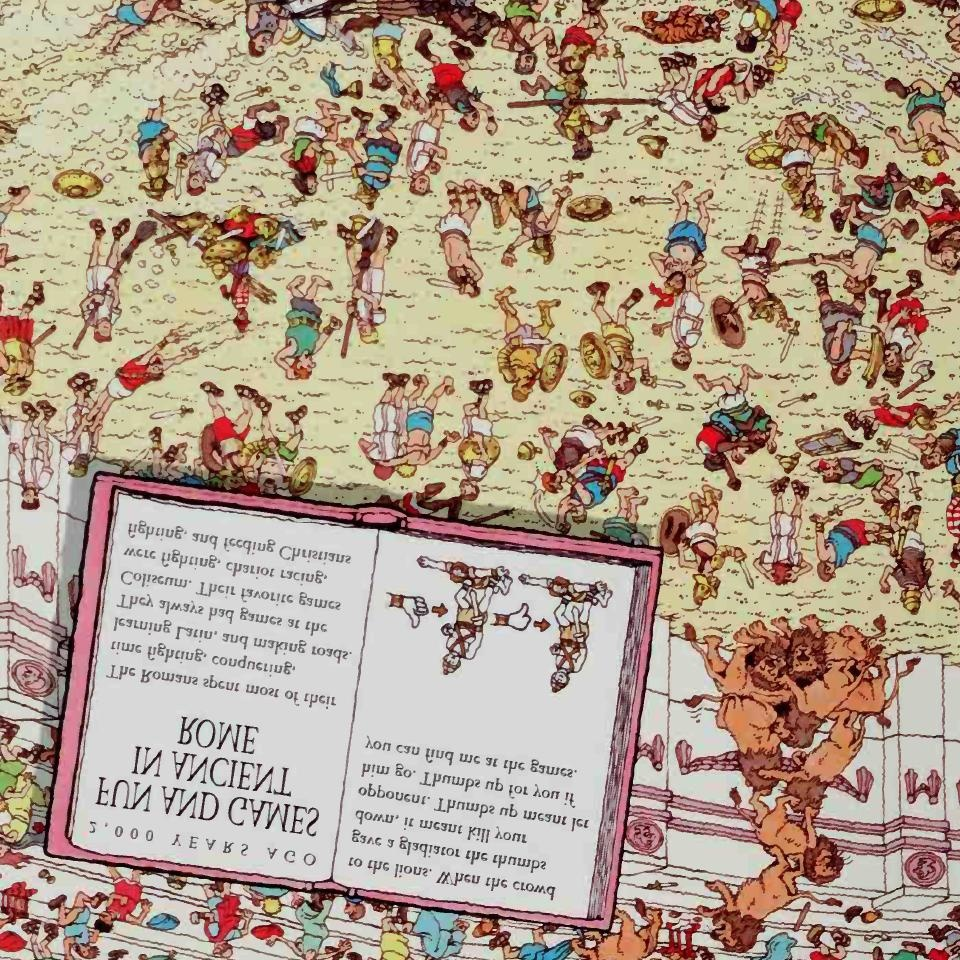waldo: (945, 491, 960, 568)
